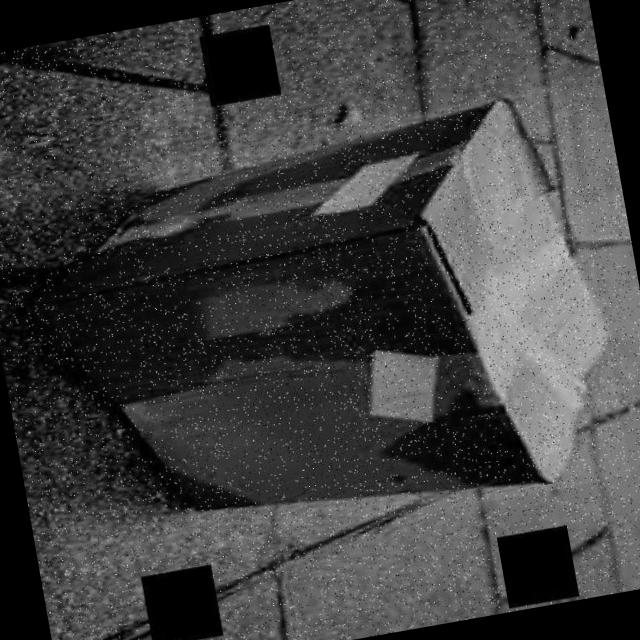box: (0, 86, 631, 575)
